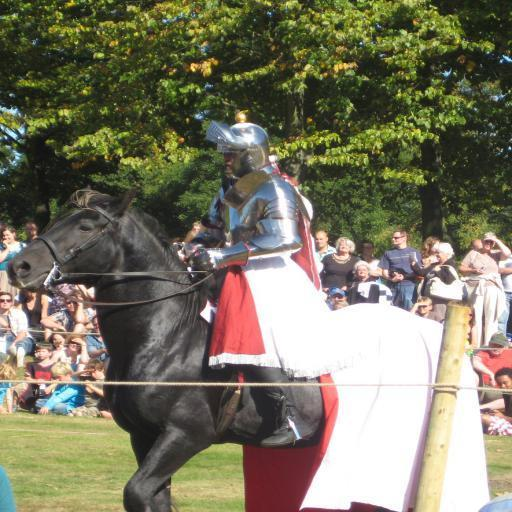horse: (5, 187, 471, 512)
